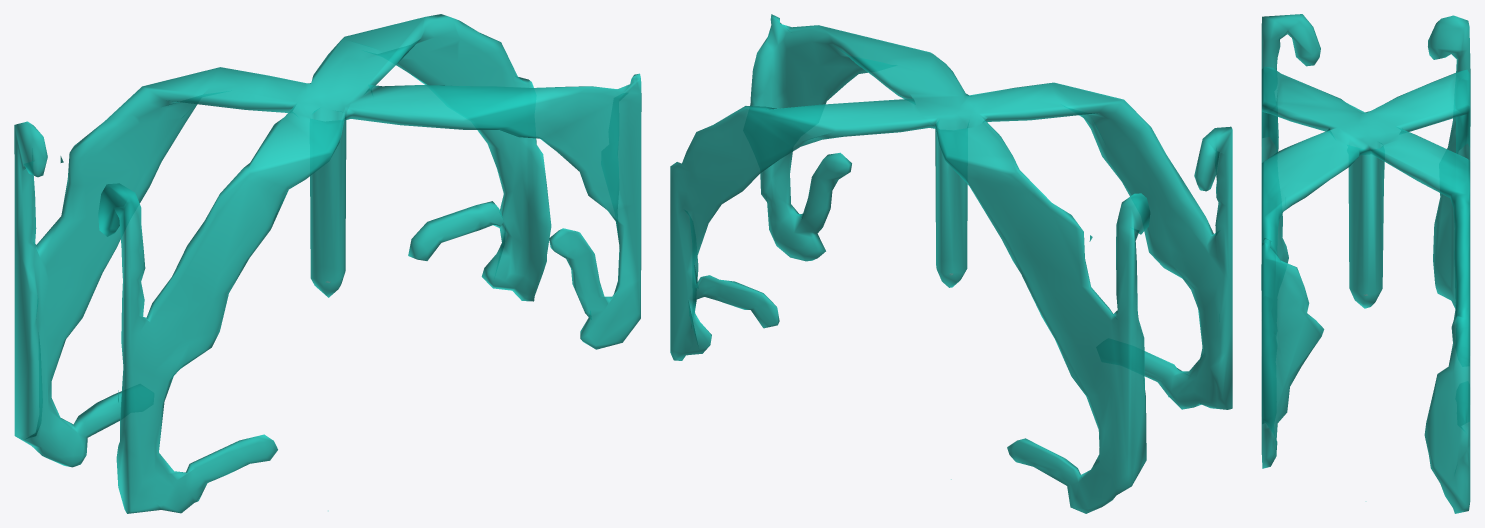
The picture shows the model from 3 angles, left to right: view 1: azimuth 30°, elevation 25°; view 2: azimuth 150°, elevation 25°; view 3: azimuth 270°, elevation 25°; orthographic projection. The views are drawn at different scales.
Visible parts, largest first — view 1: Liquid_Domain; view 2: Liquid_Domain; view 3: Liquid_Domain.
Boxes of the visible parts, x1,y1,x2,y2 form: Liquid_Domain: (14,14,641,513); Liquid_Domain: (670,14,1232,513); Liquid_Domain: (1261,14,1470,513).
Bounding box in the file's own units: 884 × 683 × 344.
